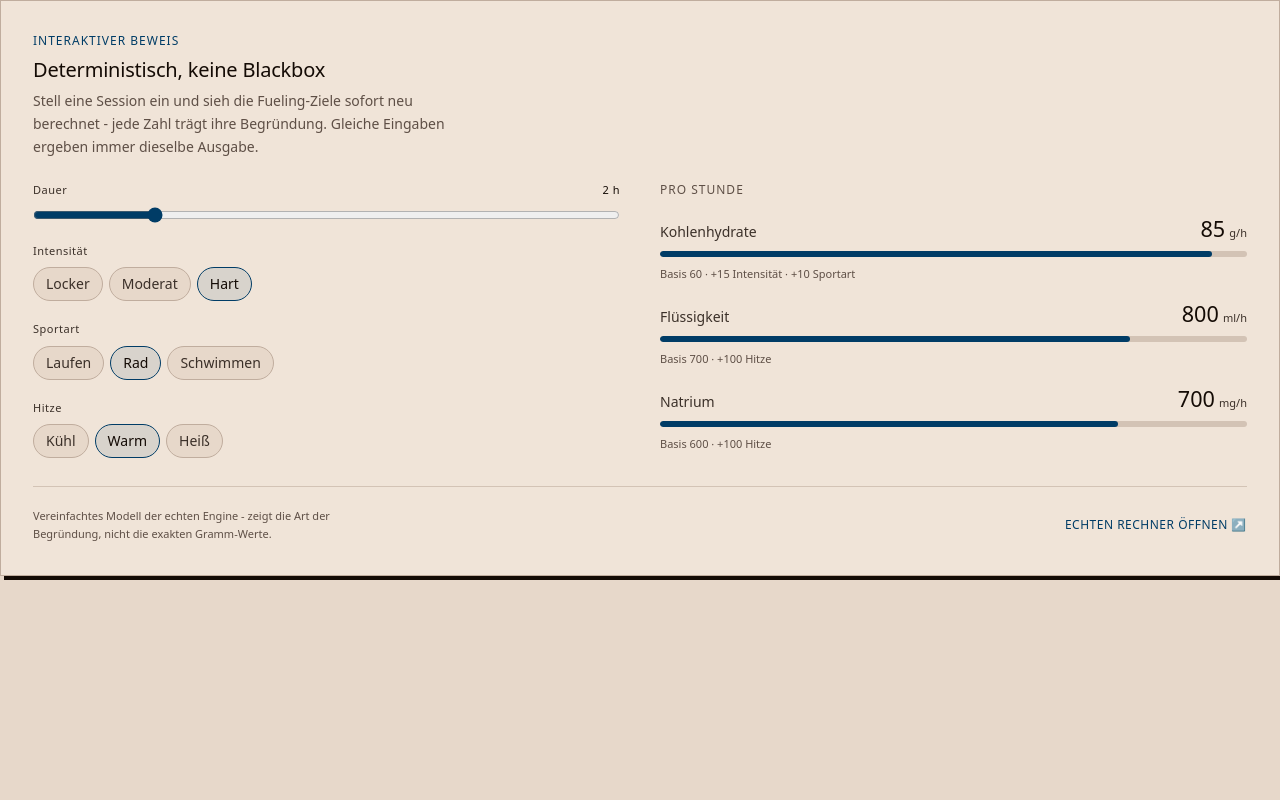
Test: FuelivoProof › recomputes deterministically when an input changes
Click the radio button labelled "Locker". click: (68, 284)
box: [33,267,103,301]
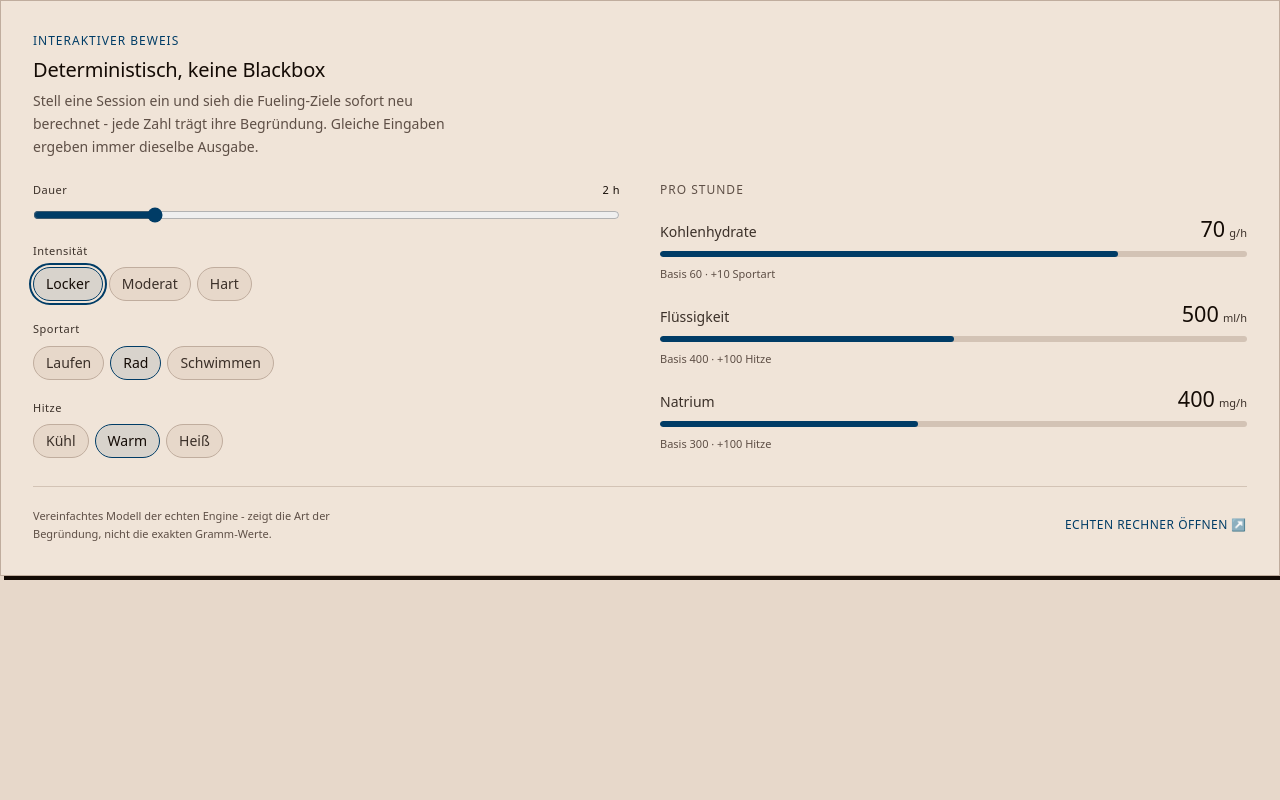
Now the text "70" is shown, box [1200,214,1225,243]
Now the text "85" is gone
